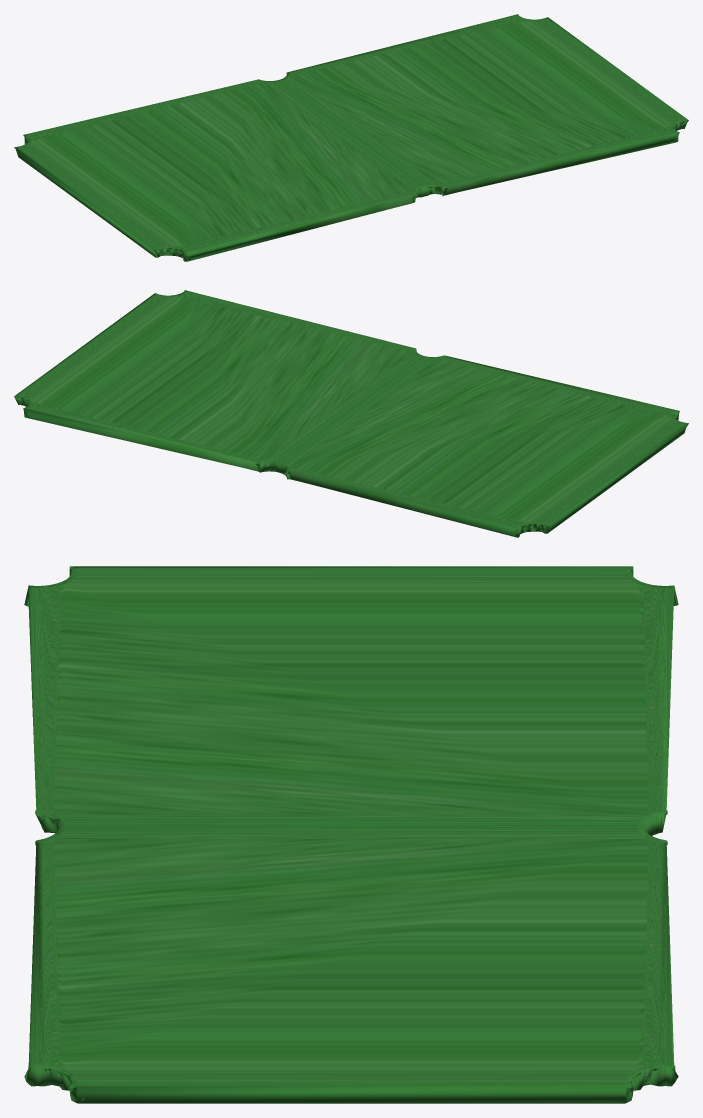
The model's file is PoolTable35.glb.
The picture shows the model from 3 angles, top to bottom: view 1: azimuth 30°, elevation 25°; view 2: azimuth 150°, elevation 25°; view 3: azimuth 270°, elevation 25°; orthographic projection. The views are drawn at different scales.
Parts seen in each view (by area): view 1: table.002; view 2: table.002; view 3: table.002.
Part boxes in pixels (x1,y1,x2,y2): table.002: [14, 14, 688, 261]; table.002: [14, 290, 688, 537]; table.002: [24, 566, 678, 1103].
Bounding box in the file's own units: 2.38 × 0.04 × 1.26.
1 material, 1 textured.
